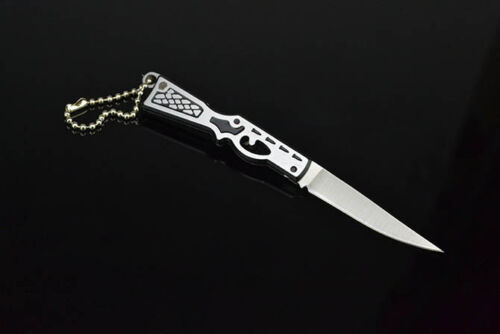knief: (68, 61, 449, 258)
